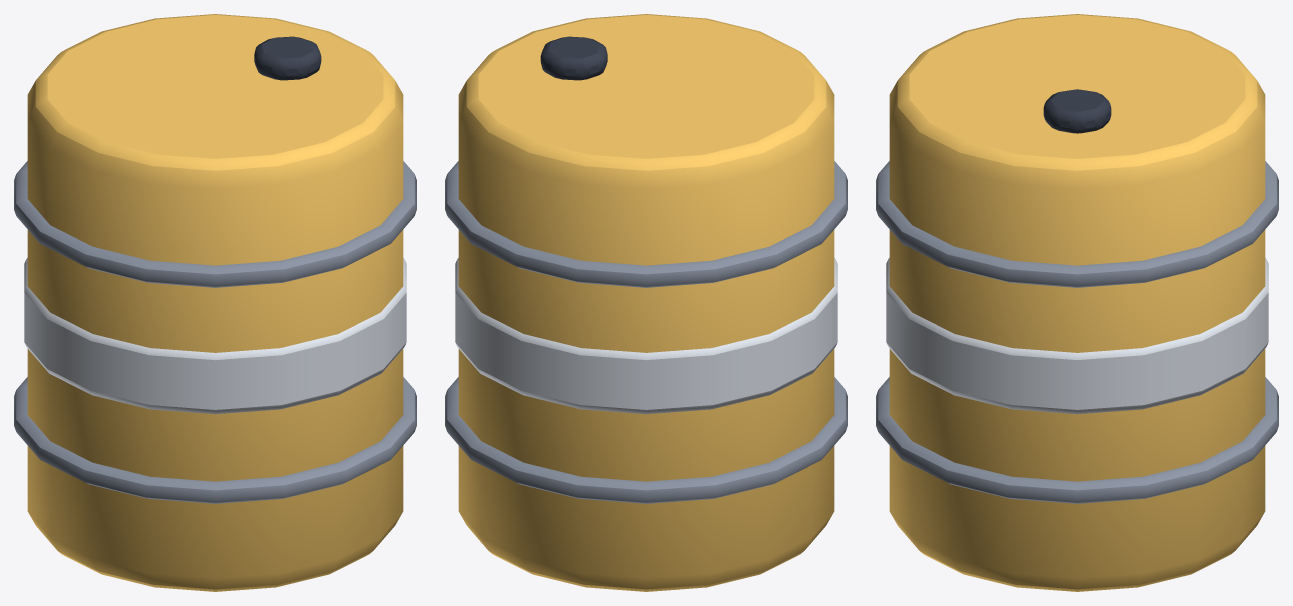
File: ware_methanol.fbx
3 views of the same model, side by side, from view 1: azimuth 30°, elevation 25°; view 2: azimuth 150°, elevation 25°; view 3: azimuth 270°, elevation 25° (orthographic).
Visible parts, largest first — view 1: ware_methanol_Koerper; view 2: ware_methanol_Koerper; view 3: ware_methanol_Koerper.
Boxes of the visible parts, x1,y1,x2,y2 form: ware_methanol_Koerper: (14, 14, 416, 591); ware_methanol_Koerper: (445, 14, 847, 591); ware_methanol_Koerper: (876, 14, 1278, 591).
Bounding box in the file's own units: 0.3432 × 0.42 × 0.338.
